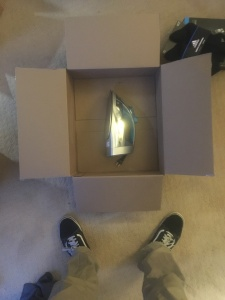innerbox: (66, 68, 165, 175)
outerbox: (21, 17, 213, 212)
product: (103, 91, 134, 156)
